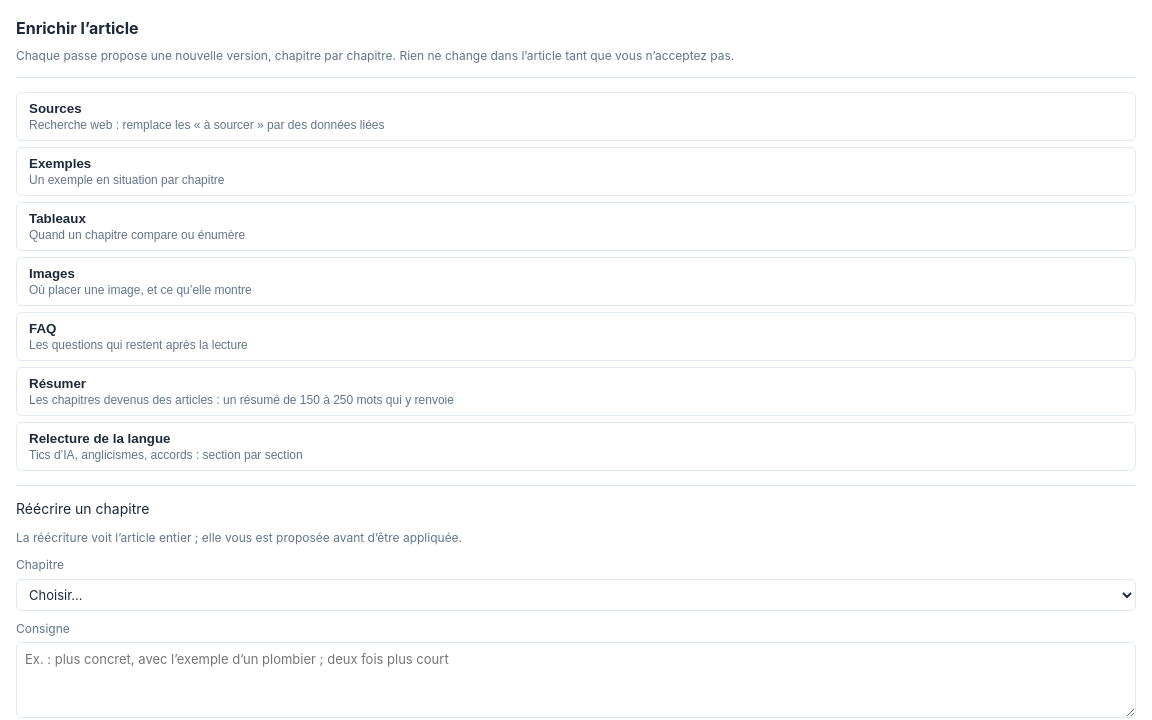
it: EnrichmentPanel › ⛔ une proposition bloquée : bouton grisé, défaut affiché
Click the button with test id "enrich-pass-faq". click: (138, 345)
box: left=16, top=312, right=1136, bottom=361
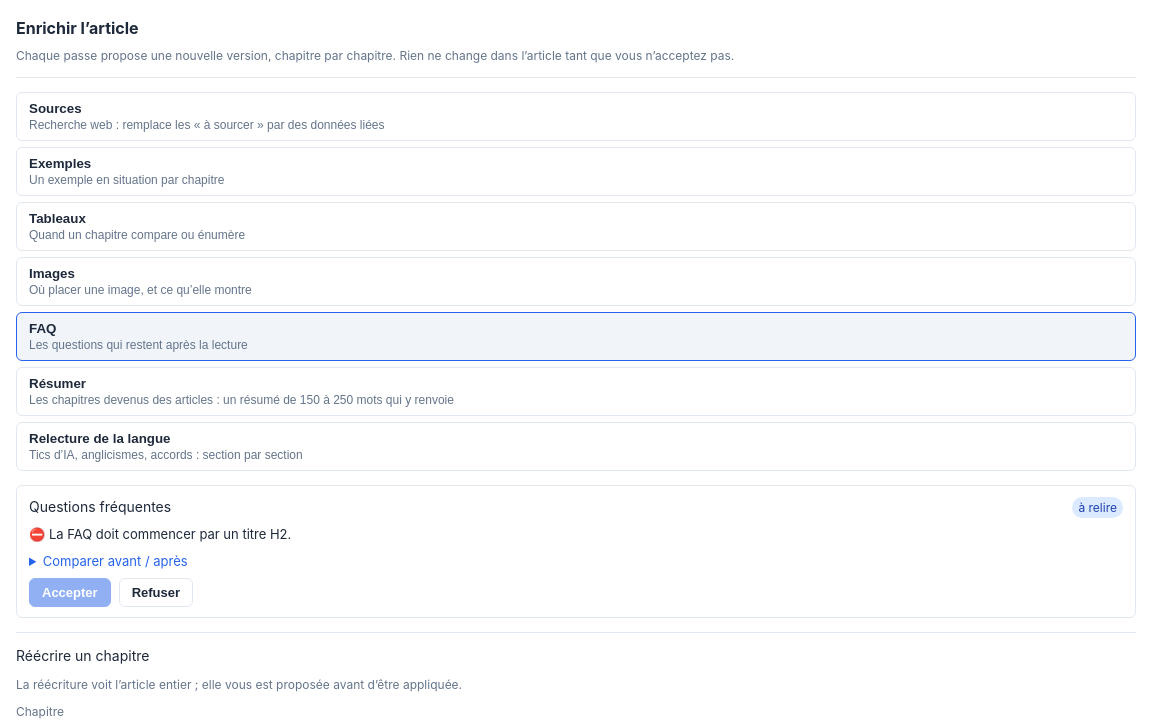
Check: the button with test id "proposal-accept" is disabled, box left=29, top=578, right=111, bottom=607
